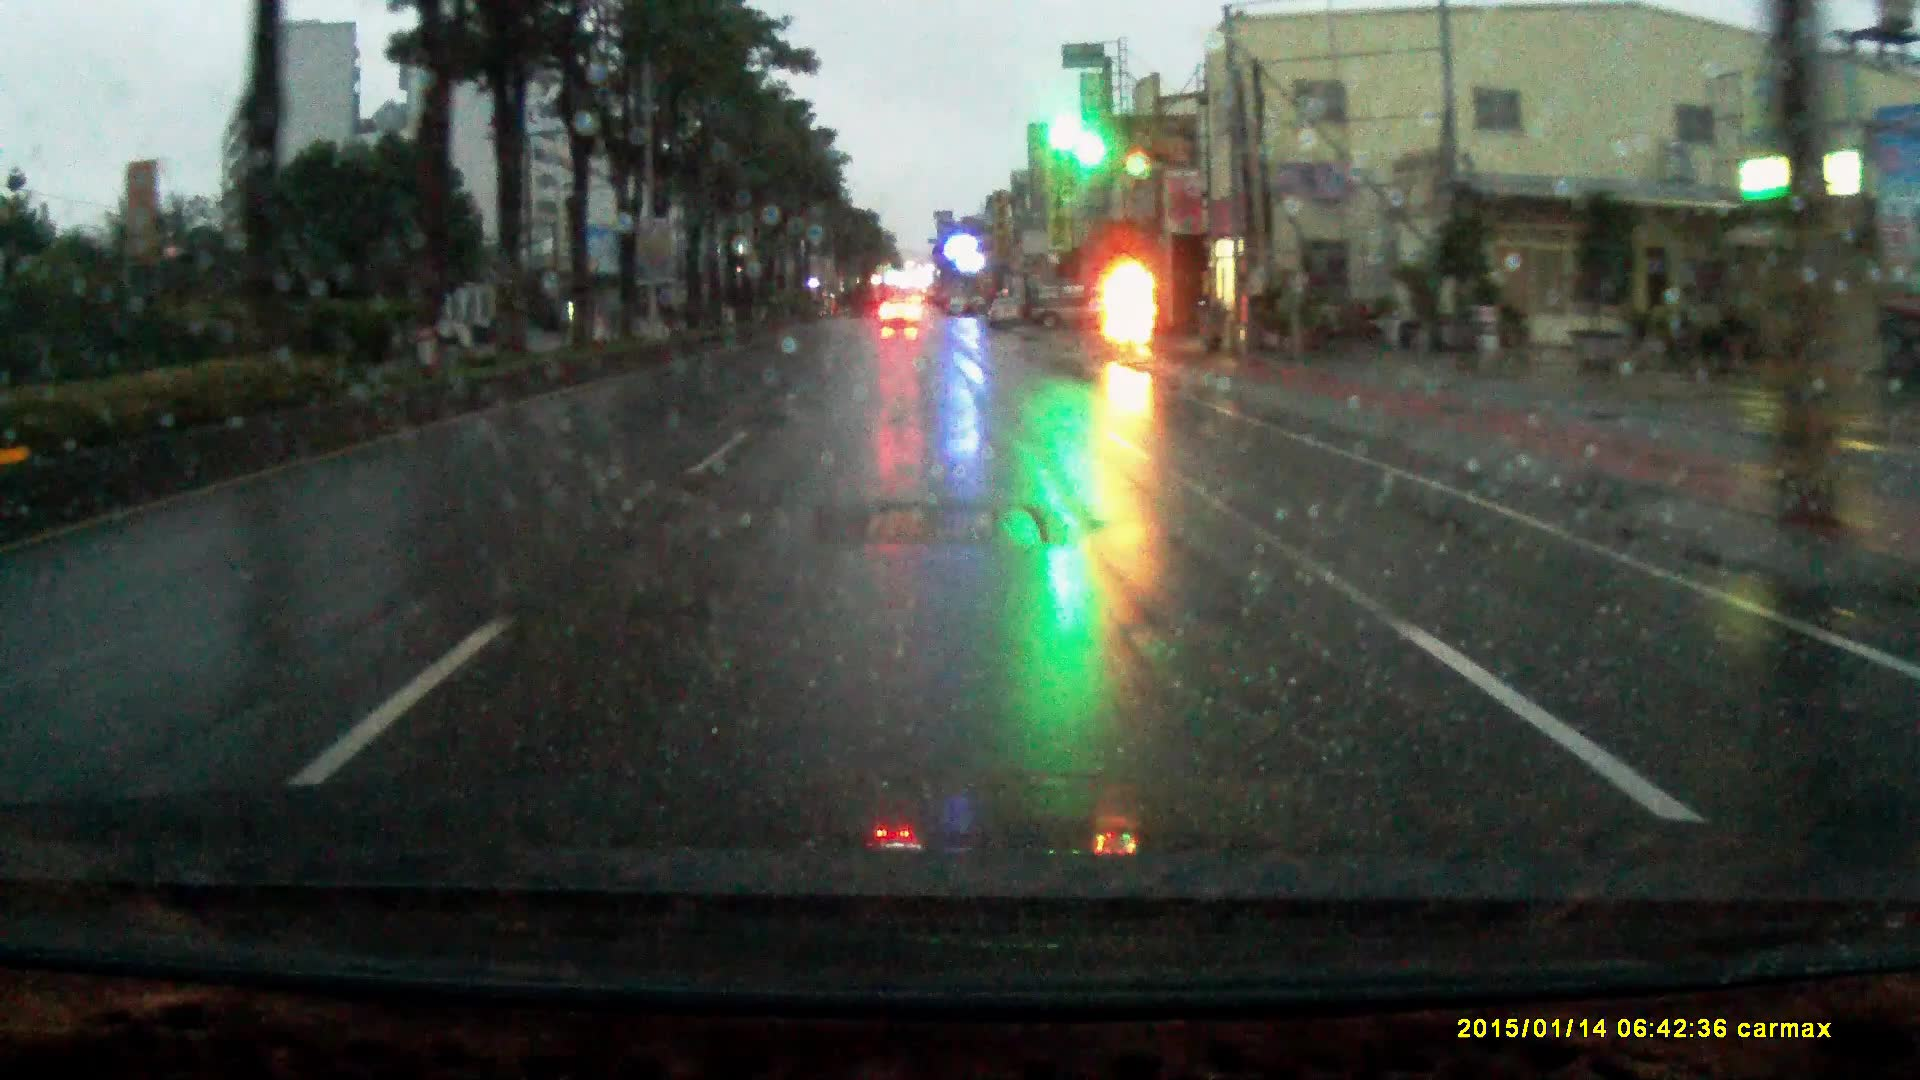vehicle: (1031, 273, 1120, 324), (880, 291, 924, 327)
